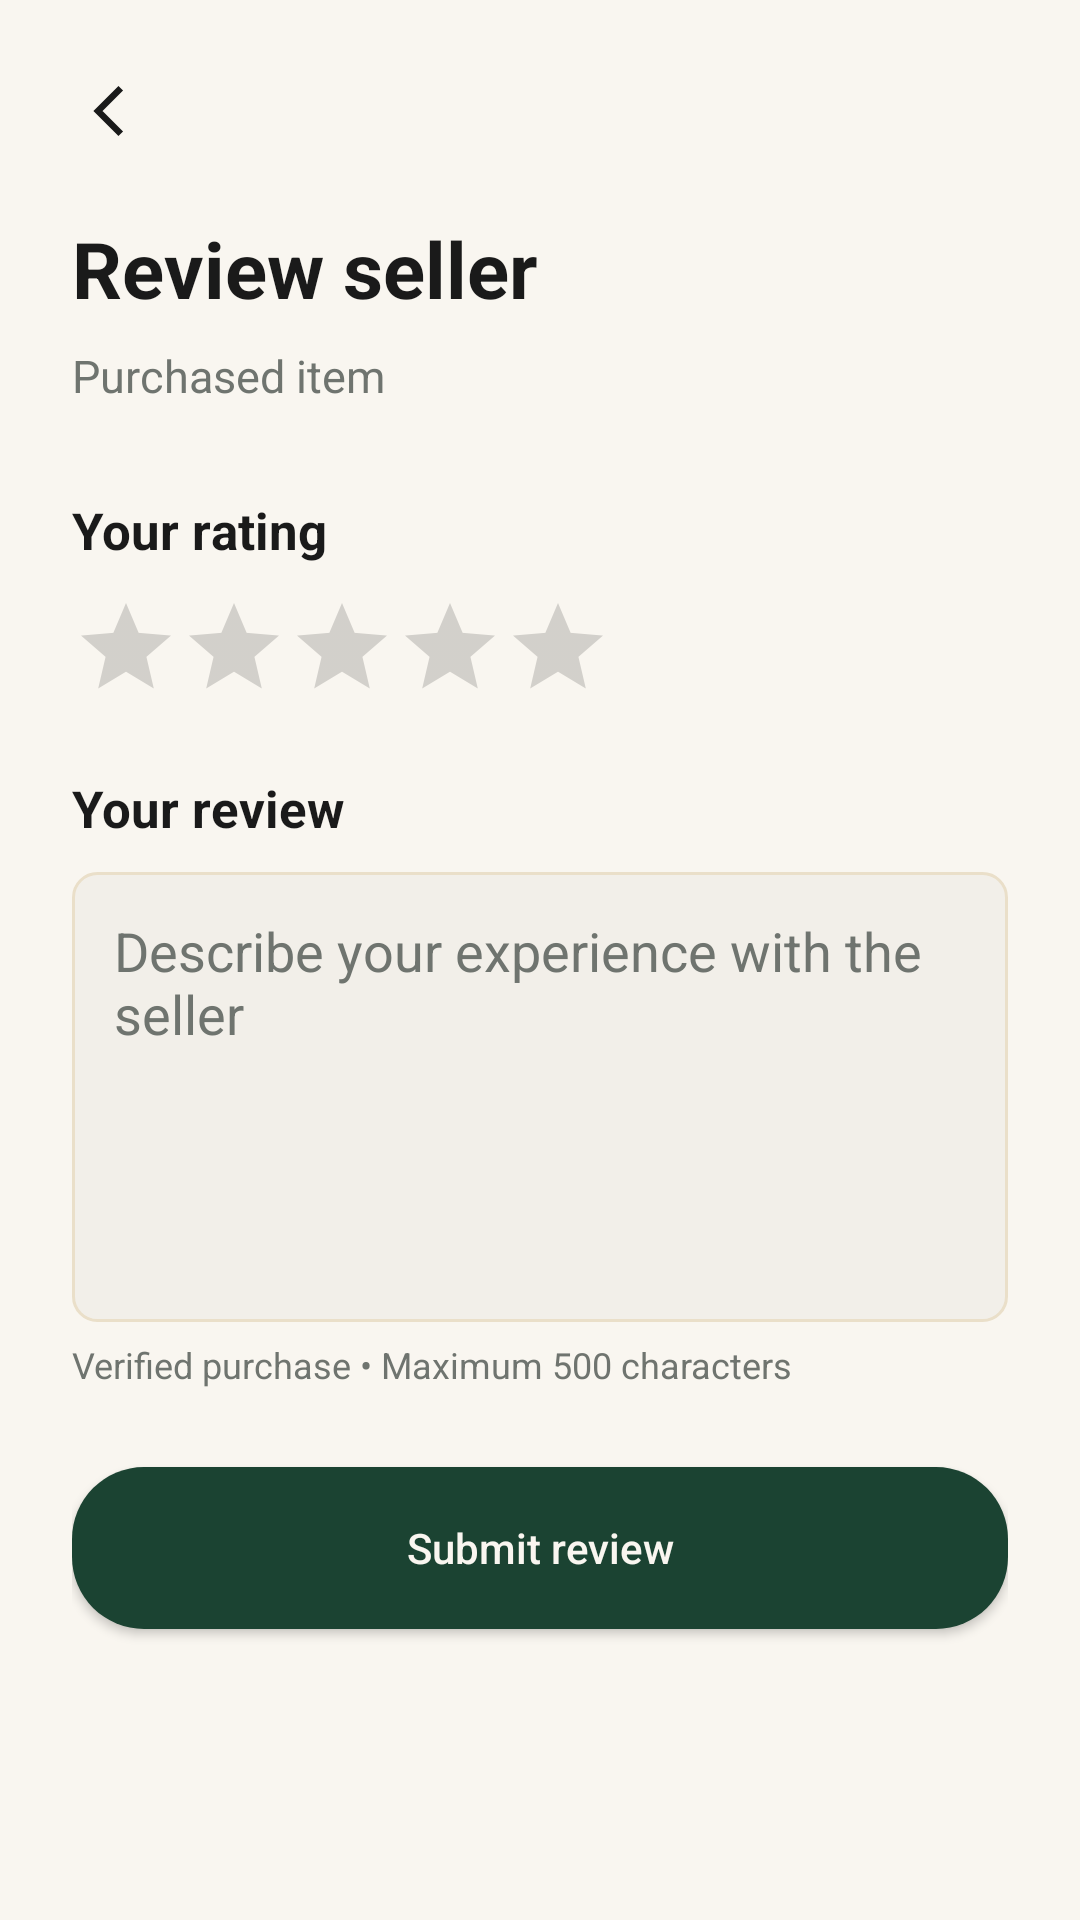

Where icons sit on this 1080×1920 app screen, as (x1, y1, x2, y2):
Back: (93, 86, 123, 136)
